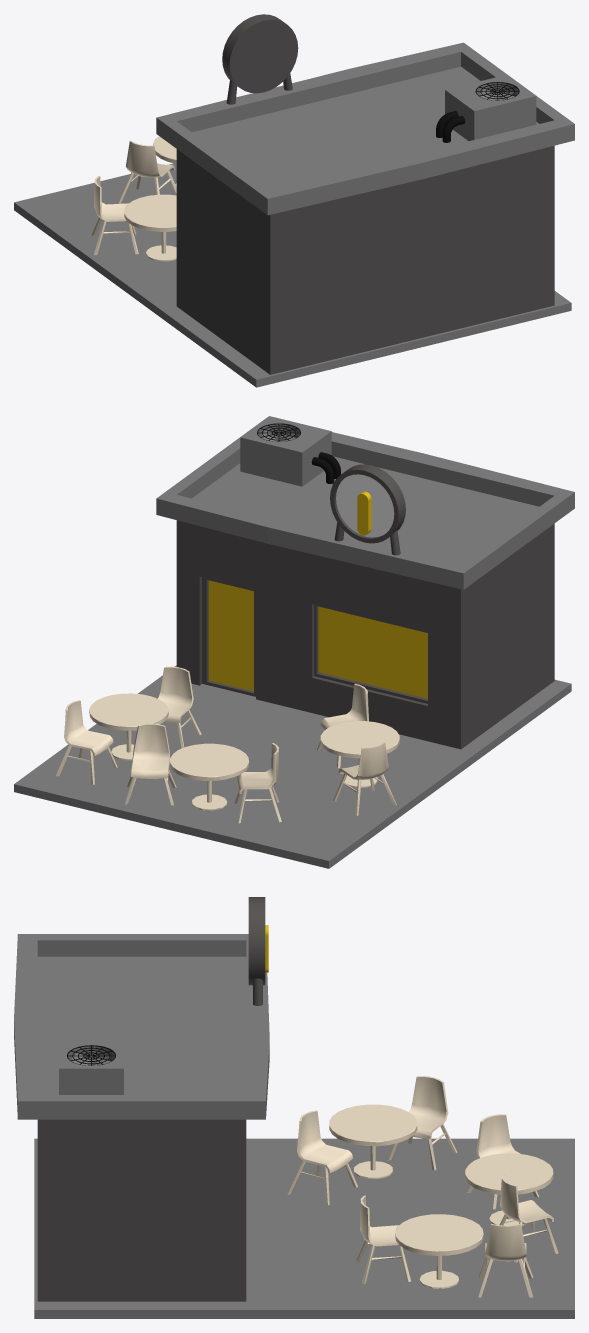
File: InfoShop.fbx
The picture shows the model from 3 angles, top to bottom: view 1: azimuth 30°, elevation 25°; view 2: azimuth 150°, elevation 25°; view 3: azimuth 270°, elevation 25°; orthographic projection. The views are drawn at different scales.
Parts seen in each view (by area): view 1: roof Ac.009; view 2: roof Ac.009; view 3: roof Ac.009.
Boxes of the visible parts, x1,y1,x2,y2 form: roof Ac.009: (14,14,574,387); roof Ac.009: (14,416,574,868); roof Ac.009: (14,897,574,1318).
Size of the model in its own units: 0.6013 by 0.4947 by 0.8311.
